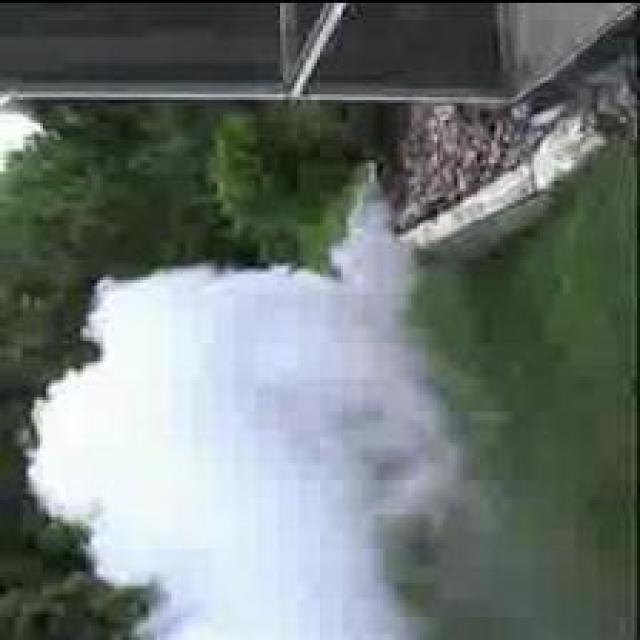Smoke: (26, 185, 463, 640)
